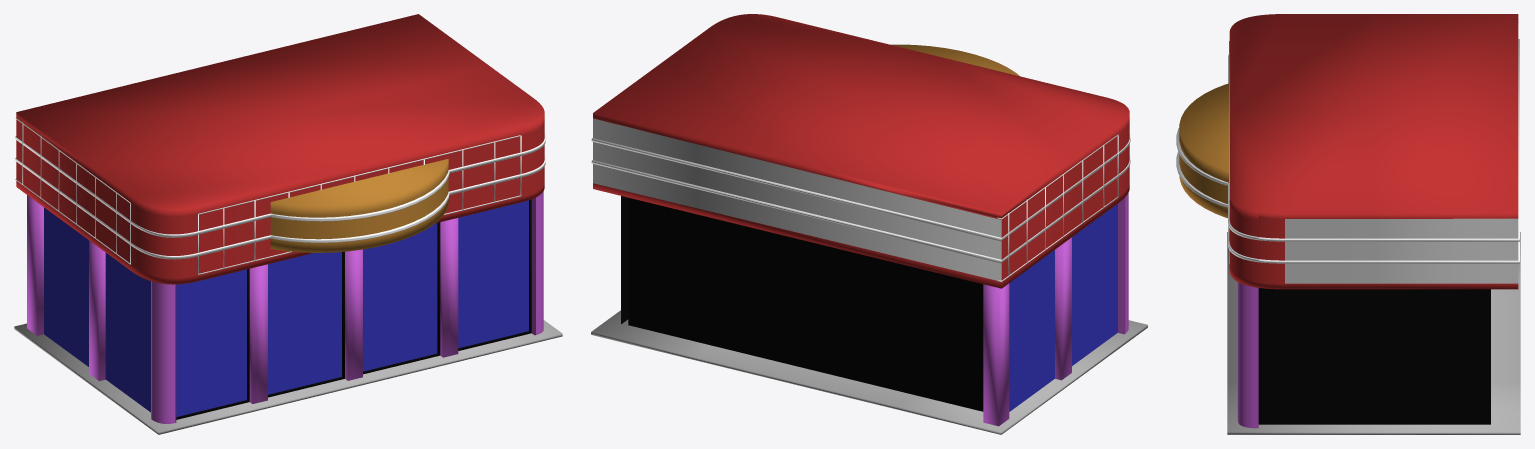
The picture shows the model from 3 angles, left to right: view 1: azimuth 30°, elevation 25°; view 2: azimuth 150°, elevation 25°; view 3: azimuth 270°, elevation 25°; orthographic projection.
Parts seen in each view (by area): view 1: Box008, Plane002, Plane003, Cylinder001, Box001, Box006, Box003, Box005, Box004, Box007, Box009, Box002 (+7 smaller); view 2: Box008, Plane005, Plane003, Box001, Box007, Box009, Box010, Box011, Box006, Cylinder001, Plane004; view 3: Box008, Plane004, Box001, Cylinder001, Box002, Box010, Box011, Cylinder002, Cylinder004.
Boxes of the visible parts, <box> form: Box008: <box>16,14,544,284</box>; Plane002: <box>176,200,528,416</box>; Plane003: <box>44,207,150,412</box>; Cylinder001: <box>270,159,448,252</box>; Box001: <box>14,320,562,434</box>; Box006: <box>151,281,176,423</box>; Box003: <box>440,218,458,357</box>; Box005: <box>249,264,267,403</box>; Box004: <box>345,249,362,380</box>; Box007: <box>27,195,43,335</box>; Box009: <box>89,240,105,381</box>; Box002: <box>531,191,543,335</box>; Box008: <box>593,14,1129,288</box>; Plane005: <box>628,197,983,411</box>; Plane003: <box>1009,204,1117,411</box>; Box001: <box>591,310,1147,434</box>; Box007: <box>983,283,1009,426</box>; Box009: <box>1055,237,1071,380</box>; Box010: <box>591,134,1130,241</box>; Box011: <box>591,156,1130,263</box>; Box006: <box>1118,193,1128,334</box>; Cylinder001: <box>891,44,1019,76</box>; Plane004: <box>621,196,628,324</box>; Box008: <box>1229,14,1518,289</box>; Plane004: <box>1258,288,1490,424</box>; Box001: <box>1227,232,1520,434</box>; Cylinder001: <box>1179,83,1228,218</box>; Box002: <box>1237,282,1258,428</box>; Box010: <box>1228,39,1519,241</box>; Box011: <box>1228,225,1519,263</box>; Cylinder002: <box>1176,127,1227,185</box>; Cylinder004: <box>1176,152,1227,207</box>.
Size of what is drawn, in the model's own units: 45.24 by 23.3 by 32.86.
